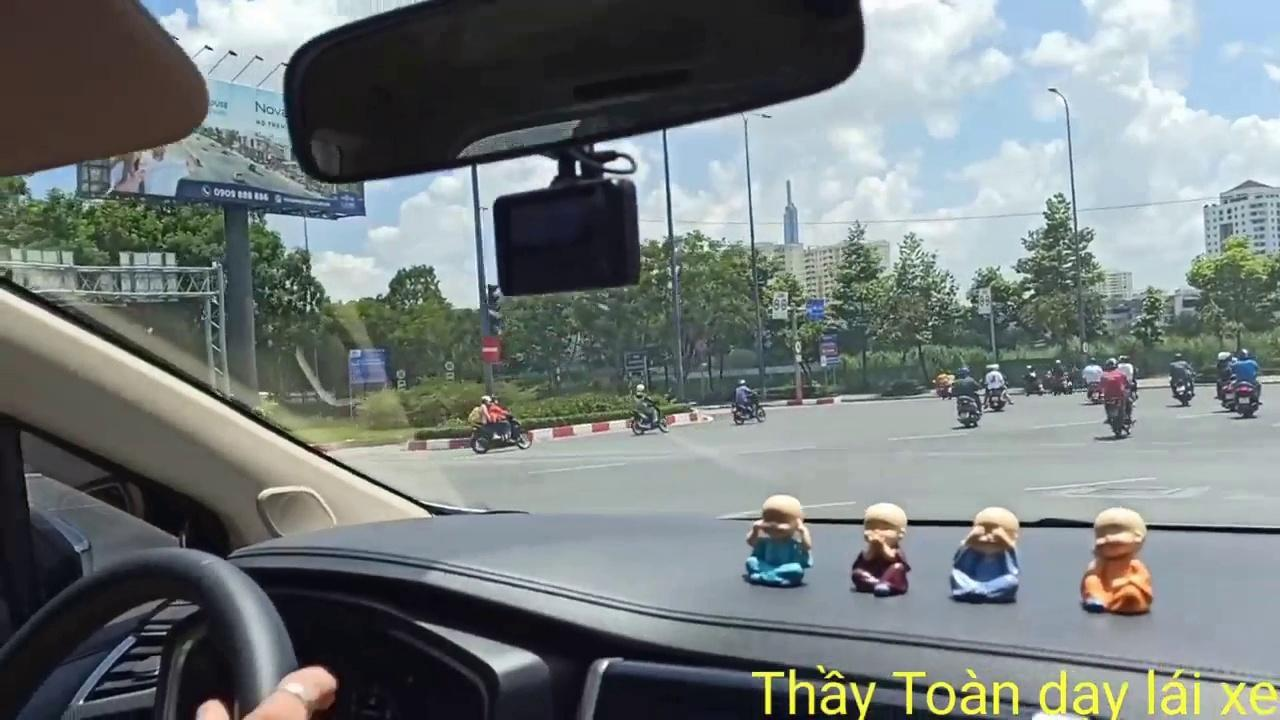Cấm cac phương tiện hoạt động trong khung giờ cố định: (771, 290, 788, 321)
Cấm đi ngược chiều: (477, 334, 504, 364)
Khác: (346, 347, 388, 384), (818, 331, 841, 367)
Làn đường cho từng xe: (804, 297, 824, 322)
